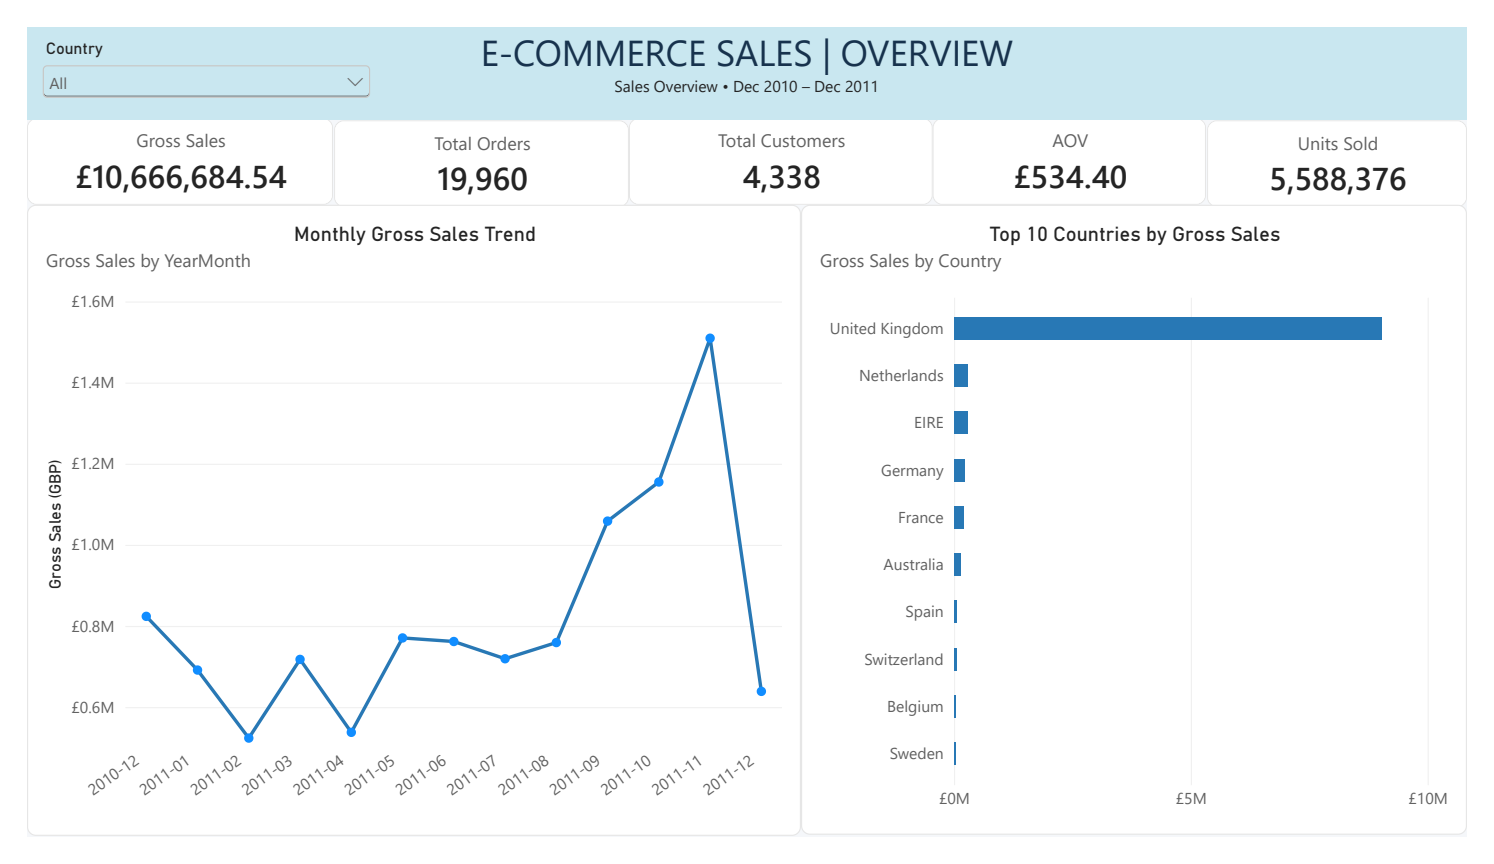

The dashboard page shown, as its layout file describes it:
{"tool":"powerbi","page":{"name":"01 - Sales Overview","canvas":[1280,720],"ordinal":0},"visuals":[{"type":"cardVisual","fields":{"Data":["sales_clean.Gross Sales"]},"box":[0,81.2,272.5,77.5],"z":0},{"type":"cardVisual","fields":{"Data":["sales_clean.Total Orders"]},"box":[272.5,82.5,262.5,77.5],"z":1000},{"type":"cardVisual","fields":{"Data":["sales_clean.Total Customers"]},"box":[535,81.2,270,77.5],"z":2000},{"type":"cardVisual","fields":{"Data":["sales_clean.Units Sold"]},"box":[1048.8,82.5,231.2,77.5],"z":3000},{"type":"cardVisual","fields":{"Data":["sales_clean.AOV"]},"box":[805,81.2,243.8,77.5],"z":4000},{"type":"textbox","box":[10,570,342,150],"z":5000},{"type":"textbox","box":[0,0,1280,82],"z":6000},{"type":"lineChart","title":"Monthly Gross Sales Trend","fields":{"Category":["sales_clean.YearMonth"],"Y":["sales_clean.Gross Sales"]},"box":[0,158,687.7,561],"z":7000},{"type":"clusteredBarChart","title":"\tTop 10 Countries by Gross Sales","fields":{"Category":["sales_clean.Country"],"Y":["sales_clean.Gross Sales"]},"box":[687.7,158,592.4,559.8],"z":7001},{"type":"slicer","fields":{"Values":["sales_clean.Country"]},"box":[9.5,11.3,300.5,60.5],"z":7002}]}

Visuals, with their boxes in screenshot pixels (x1, y1, x2, y2), scaled from the page's 1280x720 canvas onto the 1494x864 screenshot:
cardVisual - sales_clean.Gross Sales: <region>0, 97, 318, 190</region>
cardVisual - sales_clean.Total Orders: <region>318, 99, 624, 192</region>
cardVisual - sales_clean.Total Customers: <region>624, 97, 940, 190</region>
cardVisual - sales_clean.Units Sold: <region>1224, 99, 1493, 192</region>
cardVisual - sales_clean.AOV: <region>940, 97, 1224, 190</region>
textbox: <region>12, 684, 411, 863</region>
textbox: <region>0, 0, 1493, 98</region>
"Monthly Gross Sales Trend" lineChart: <region>0, 190, 803, 863</region>
"	Top 10 Countries by Gross Sales" clusteredBarChart: <region>803, 190, 1493, 861</region>
slicer - sales_clean.Country: <region>11, 14, 362, 86</region>
